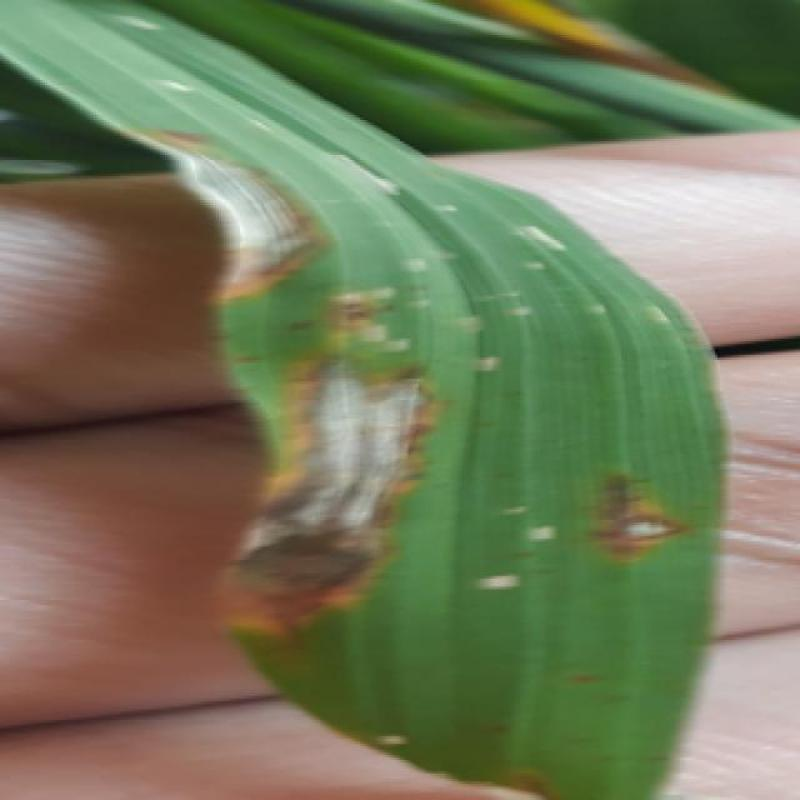Leaf_Blast: (244, 336, 435, 632), (562, 442, 696, 572)
